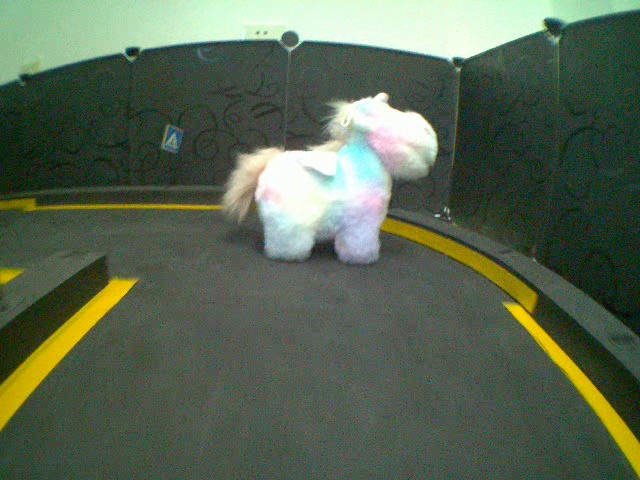unicorn: (205, 88, 439, 271)
